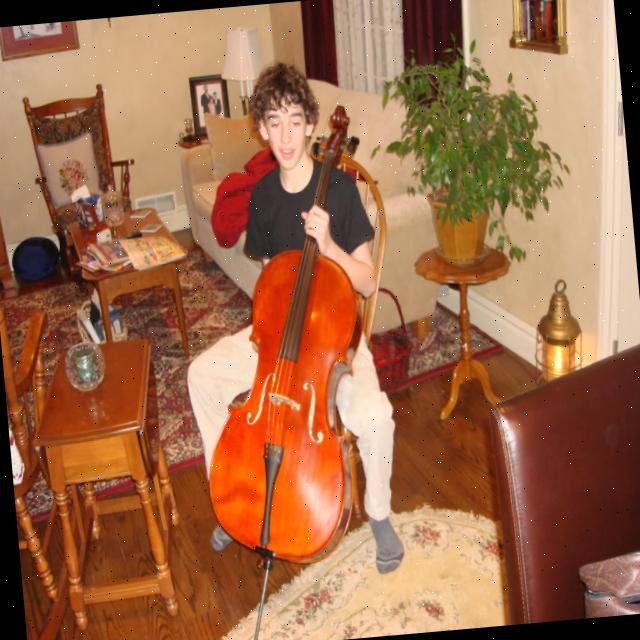cello: (173, 102, 392, 574)
